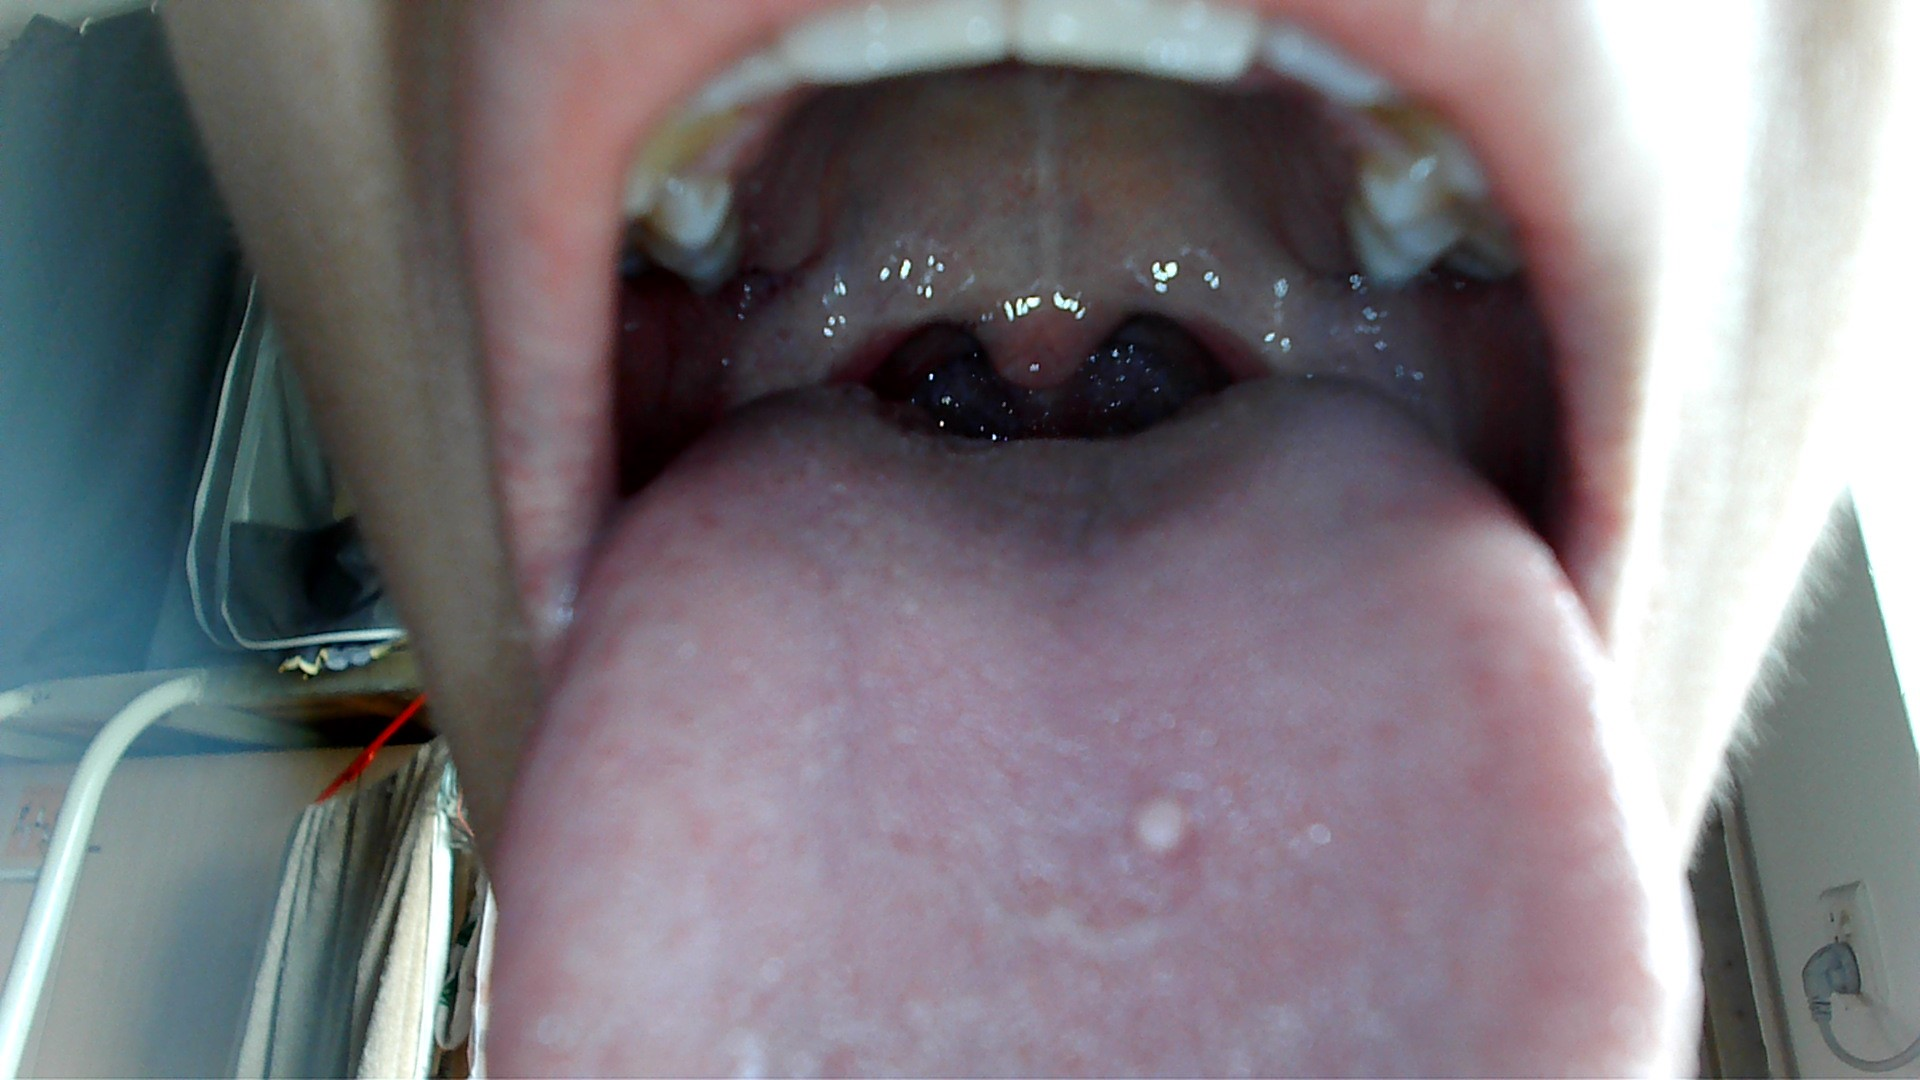throat: (738, 276, 910, 392), (1182, 232, 1309, 384)
